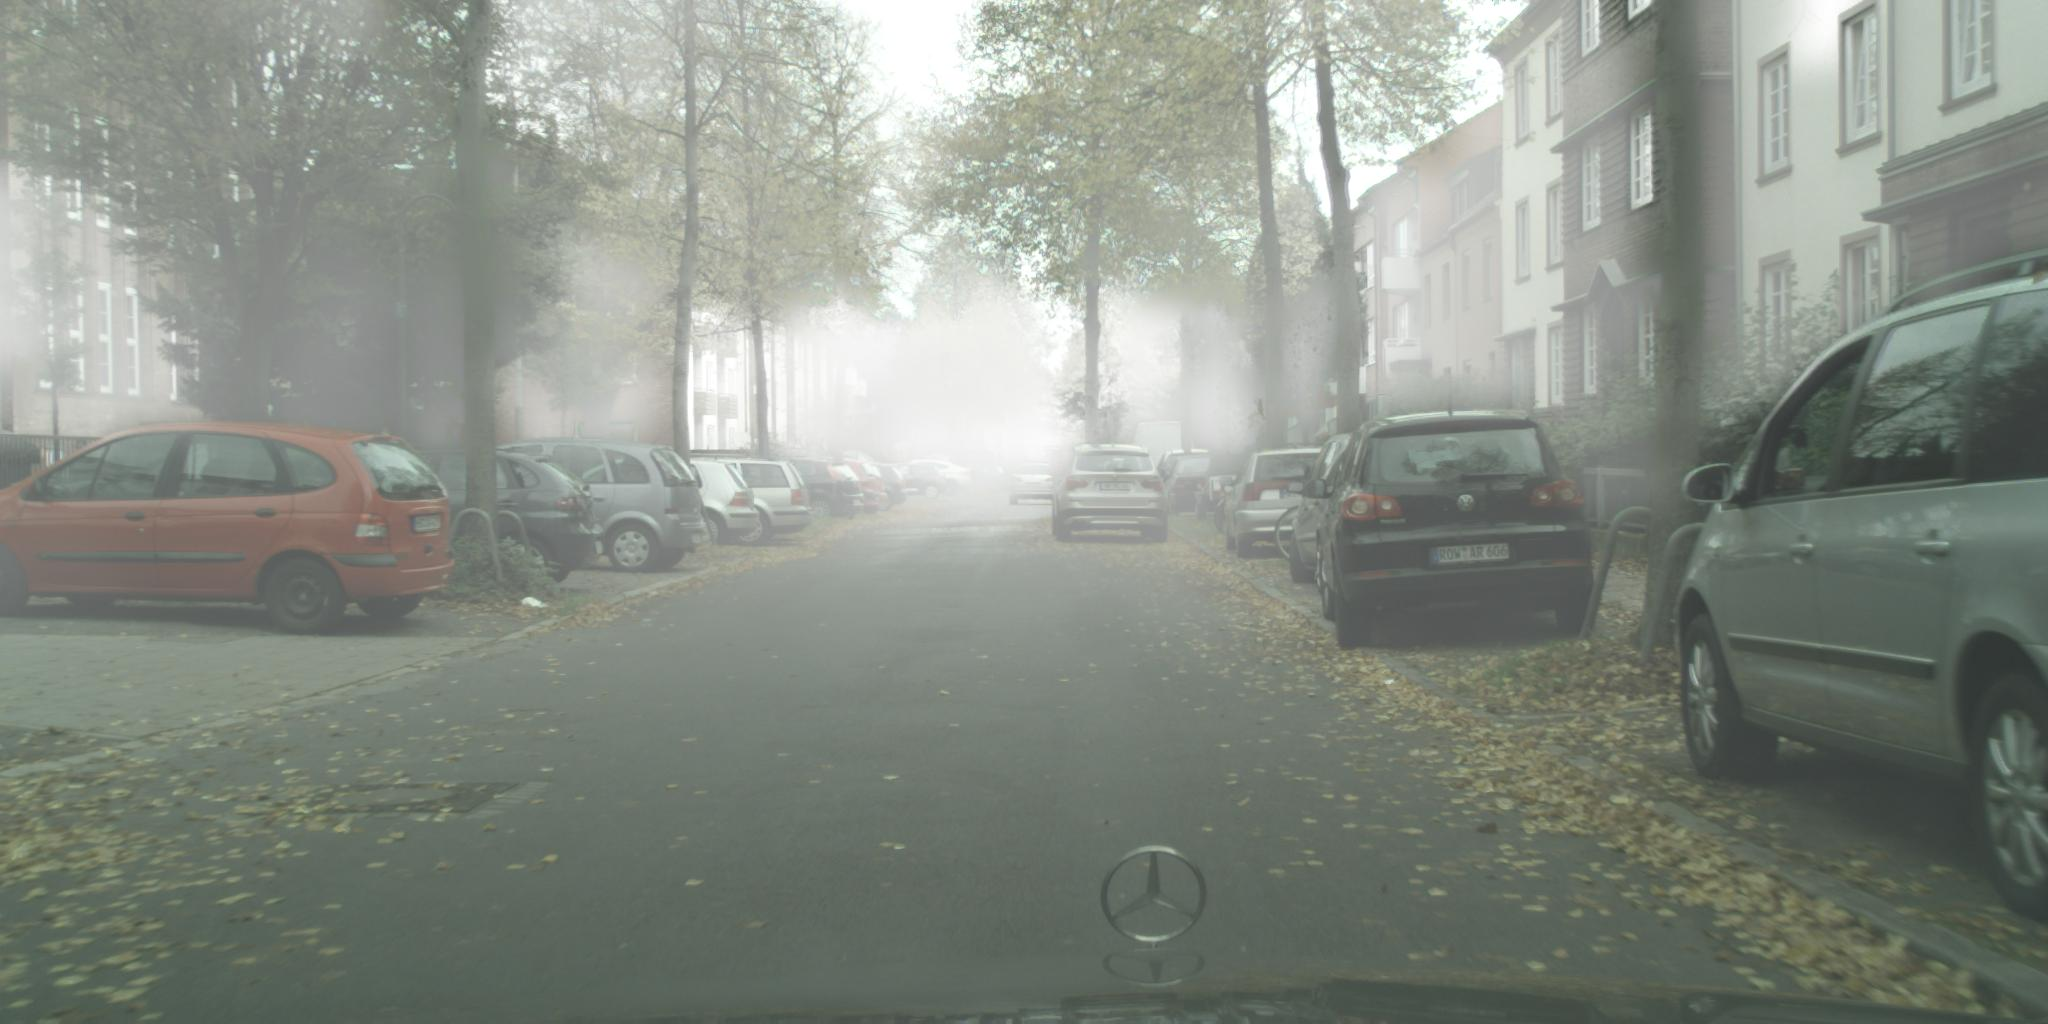bicycle: (1276, 505, 1302, 562), (1215, 498, 1236, 532)
car: (1673, 243, 2048, 923), (1, 421, 455, 640), (1304, 408, 1597, 649), (401, 448, 606, 590), (492, 439, 707, 575), (1219, 447, 1327, 560), (1049, 443, 1168, 543), (1288, 434, 1357, 593), (707, 460, 812, 546), (660, 461, 761, 550), (775, 456, 866, 525), (1128, 422, 1200, 492), (807, 457, 887, 517), (1159, 455, 1219, 519), (1149, 451, 1213, 498), (859, 462, 909, 512), (910, 458, 973, 498), (921, 452, 1002, 481), (887, 464, 948, 500), (1010, 462, 1059, 505)
